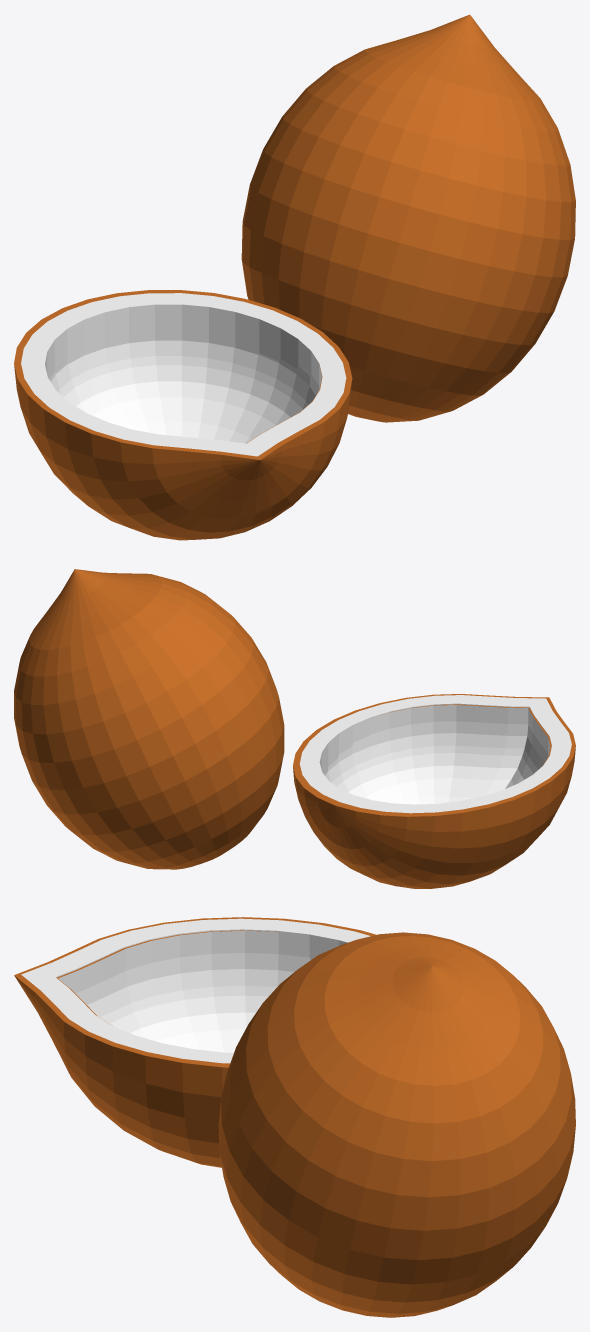
File: Coconut.gltf
3 views of the same model, one above another, from view 1: azimuth 30°, elevation 25°; view 2: azimuth 150°, elevation 25°; view 3: azimuth 270°, elevation 25° (orthographic). The views are drawn at different scales.
Parts seen in each view (by area): view 1: node-0; view 2: node-0; view 3: node-0.
Part boxes in pixels (x1,y1,x2,y2): node-0: (14,14,575,540); node-0: (14,569,575,888); node-0: (14,917,575,1317).
Size of the model in its own units: 516198 by 301685 by 398930.
